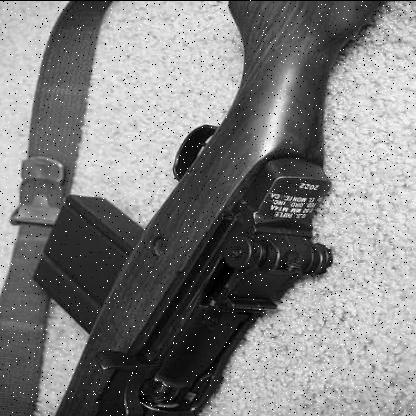rifle: (28, 71, 369, 416)
